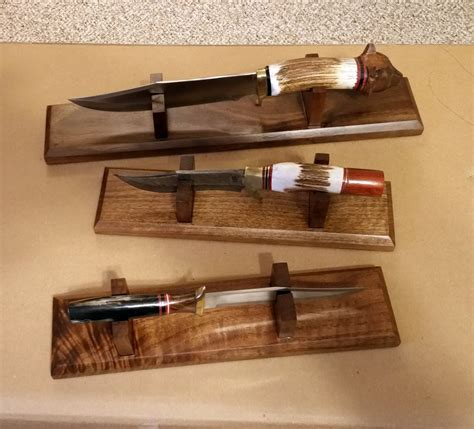knife: (67, 42, 406, 113), (65, 288, 367, 322), (110, 159, 385, 196)
